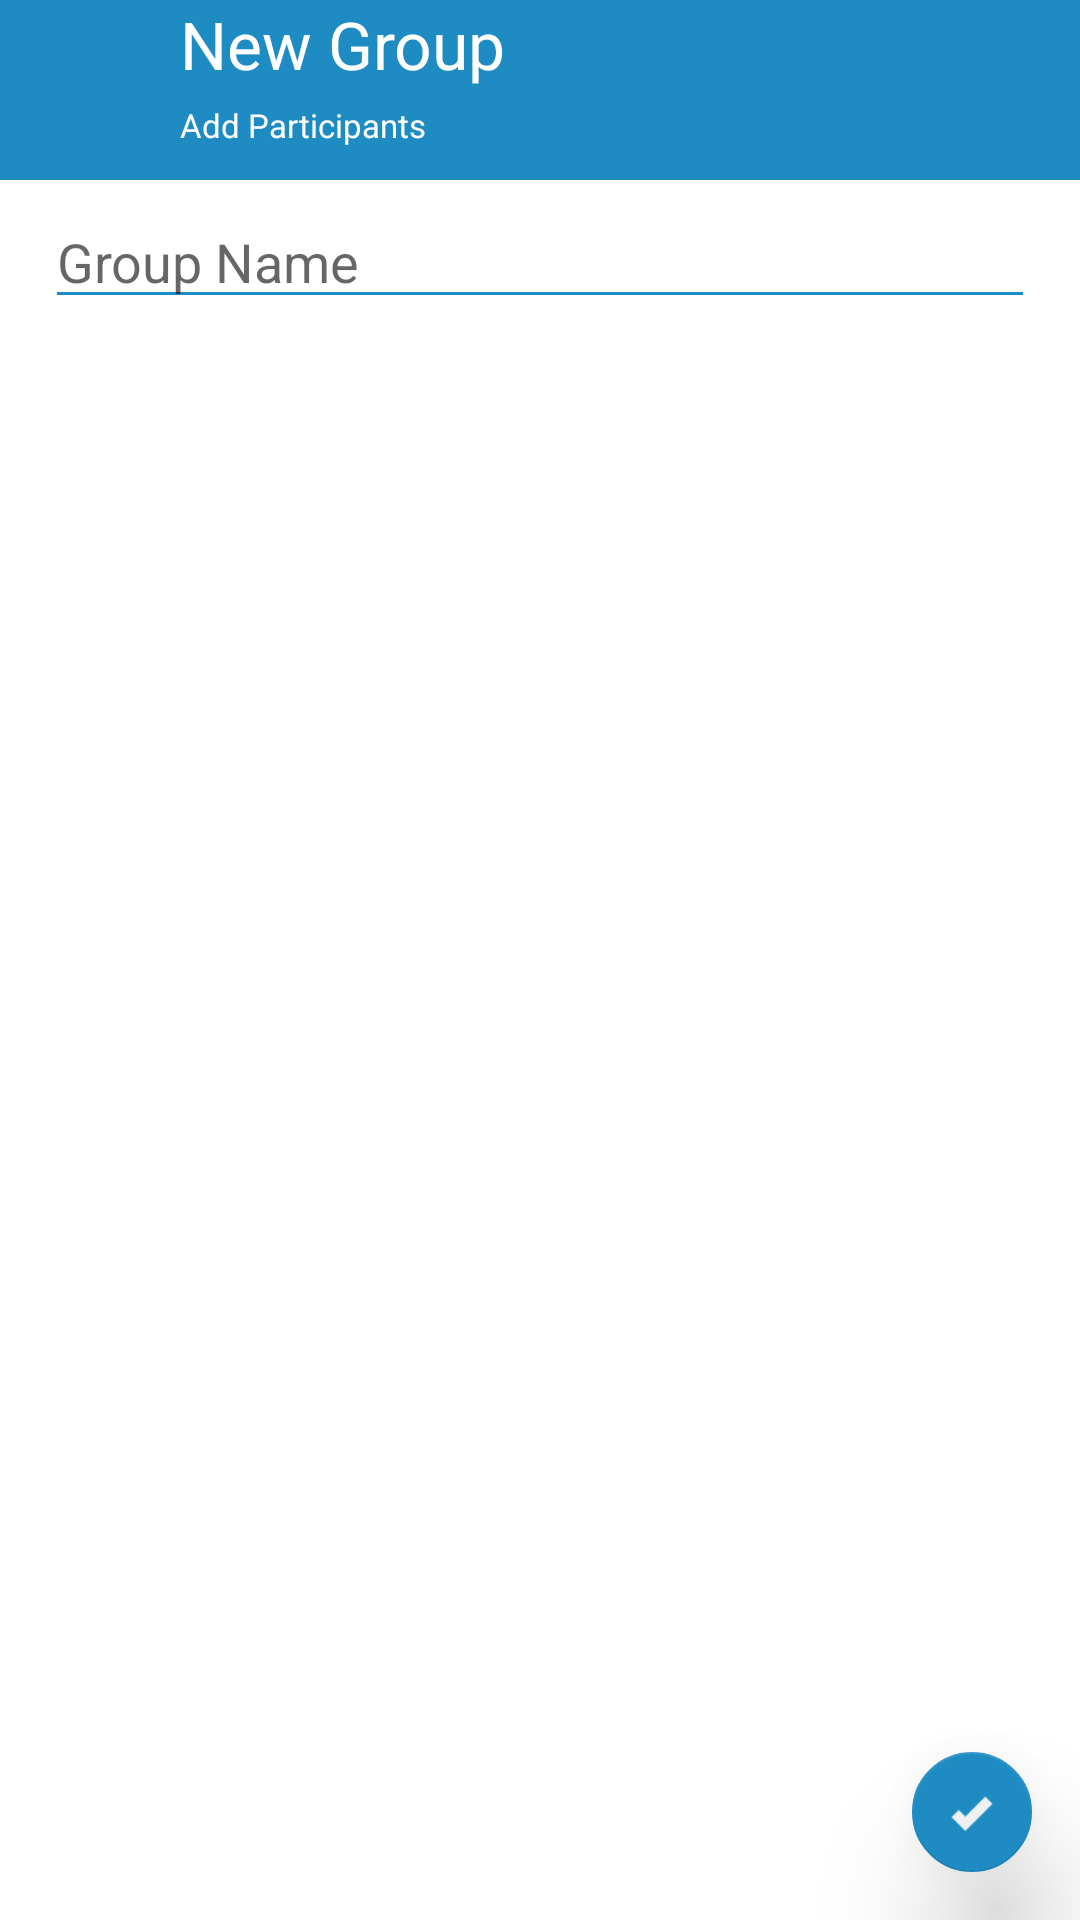

Icon bounding boxes for this 1080 x 1920 phone screenshot, format (x1, y1, x2, y2):
checked: (912, 1752, 1032, 1872)
